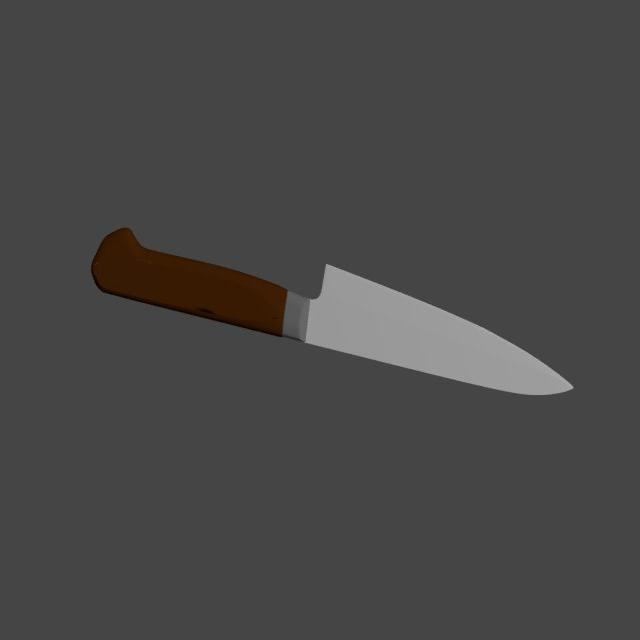knife: (91, 226, 289, 338)
